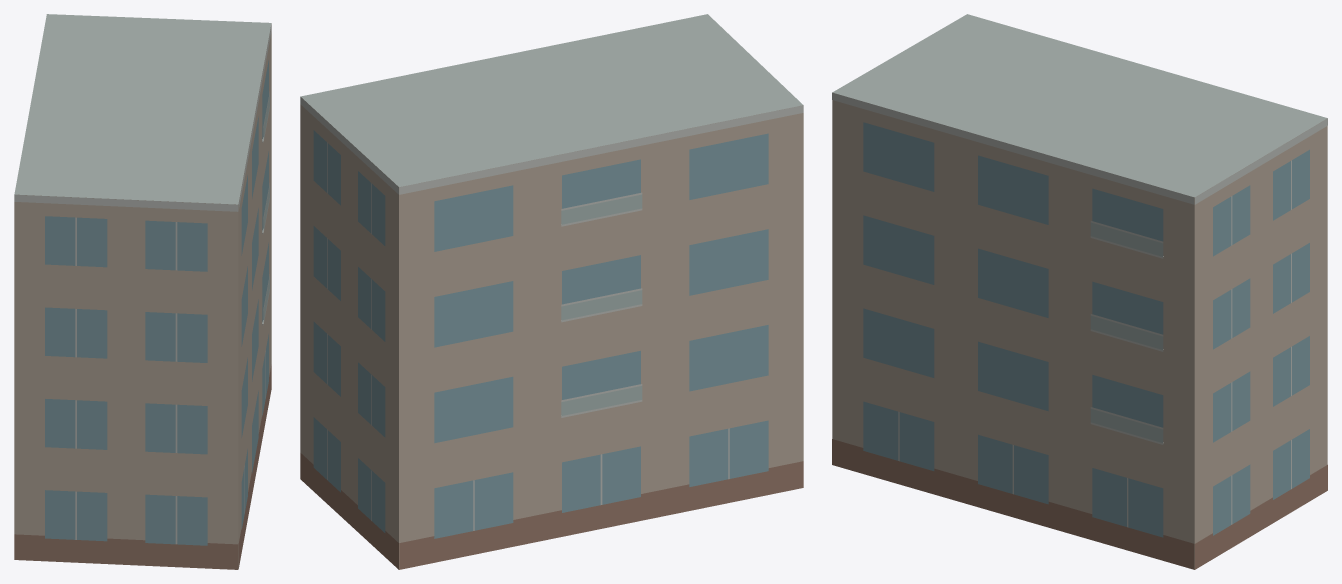
The model's file is survey-upis-32890680.glb.
3 renders of one model, left to right at view 1: azimuth 30°, elevation 25°; view 2: azimuth 150°, elevation 25°; view 3: azimuth 270°, elevation 25°, orthographic. The views are drawn at different scales.
Visible parts, largest first — view 1: survey-upis-32890680.tmp; view 2: survey-upis-32890680.tmp; view 3: survey-upis-32890680.tmp.
Boxes of the visible parts, x1,y1,x2,y2 form: survey-upis-32890680.tmp: (14, 14, 271, 569); survey-upis-32890680.tmp: (300, 14, 803, 569); survey-upis-32890680.tmp: (832, 14, 1327, 569).
Size of the model in its own units: 12.9 by 12.2 by 14.73.
